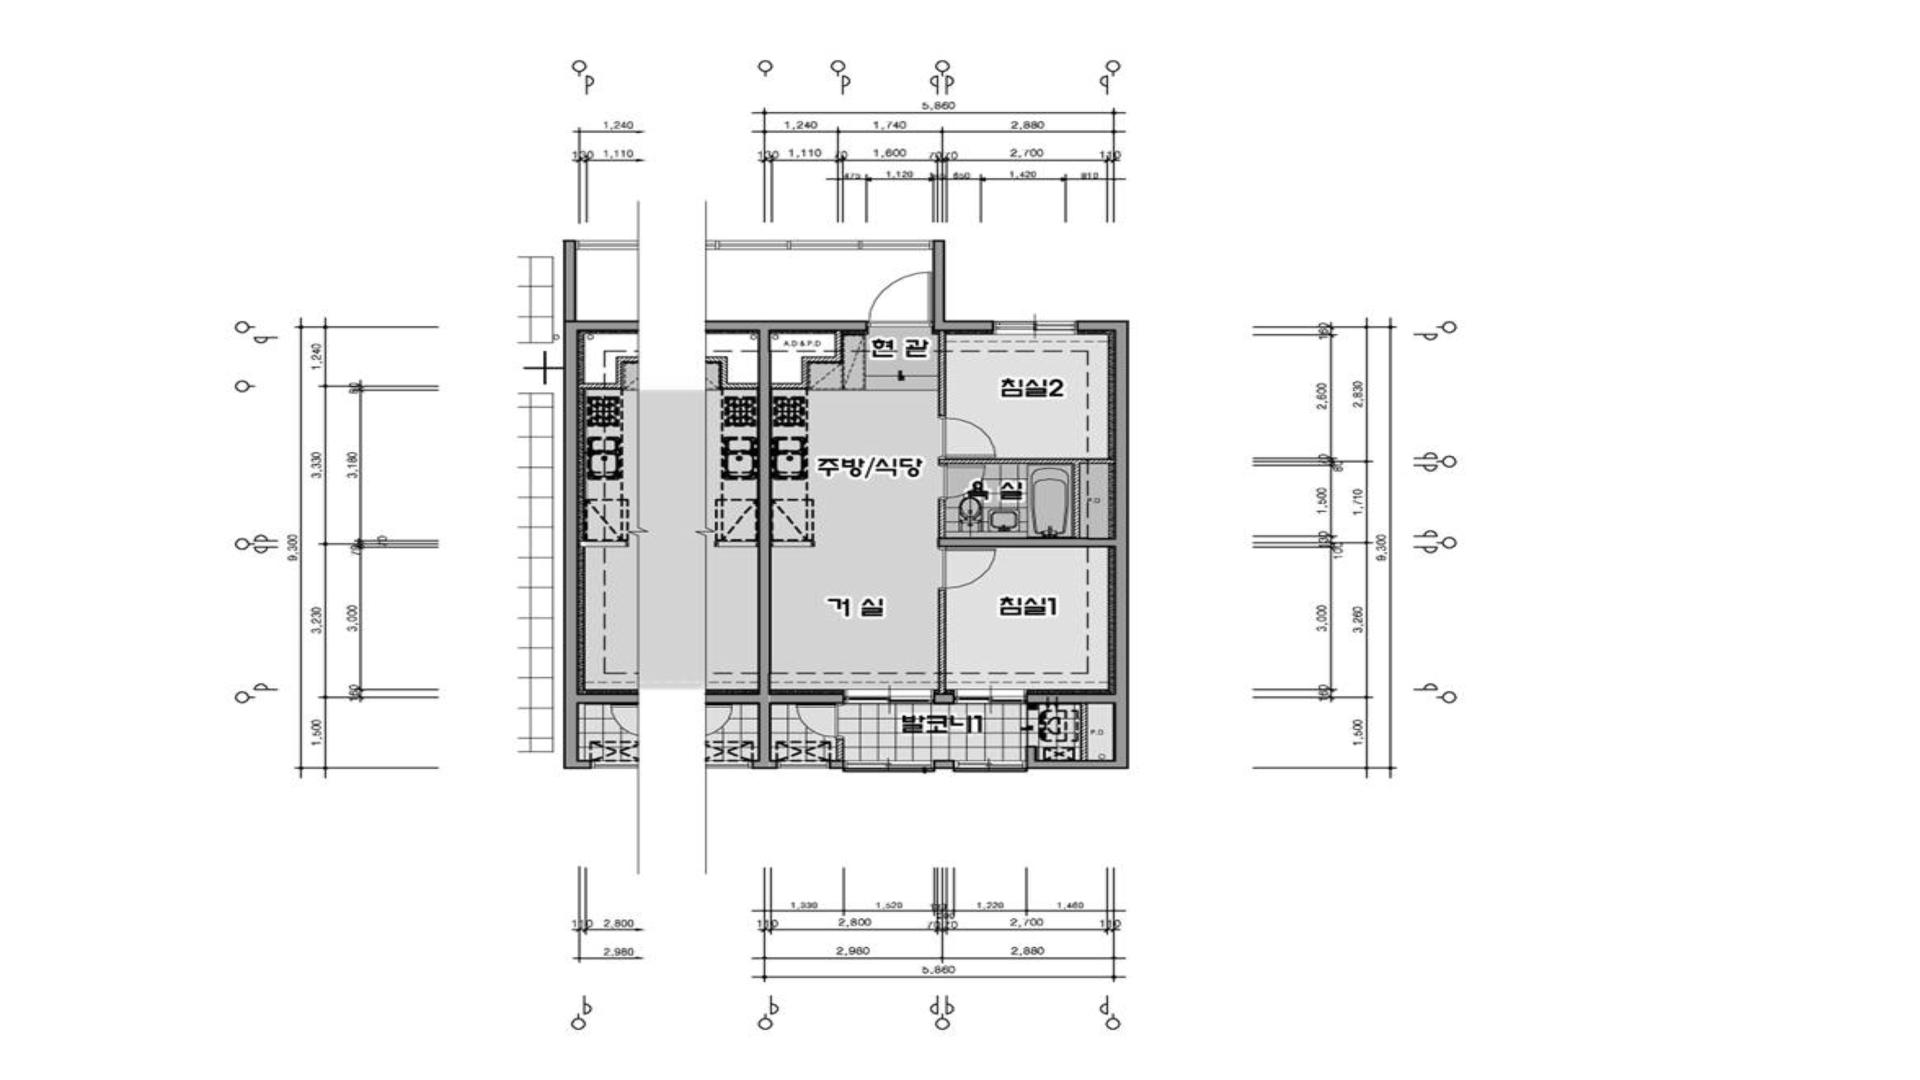door: (866, 272, 932, 327), (938, 547, 996, 589), (938, 417, 996, 459), (795, 703, 843, 738), (939, 464, 986, 498), (1027, 711, 1039, 746)
wall: (758, 320, 868, 769), (1026, 320, 1129, 769), (938, 459, 1113, 538), (932, 240, 993, 335), (770, 331, 843, 389), (705, 240, 932, 249), (939, 538, 1114, 547), (938, 589, 947, 695), (938, 335, 947, 417), (1080, 704, 1088, 761), (939, 498, 947, 538), (934, 695, 955, 704), (935, 760, 953, 769), (836, 738, 843, 761), (829, 761, 843, 769), (1027, 704, 1039, 711)
window: (843, 688, 934, 704), (993, 320, 1077, 335), (955, 688, 1027, 704), (843, 760, 935, 771), (953, 760, 1026, 771), (777, 761, 829, 769)
